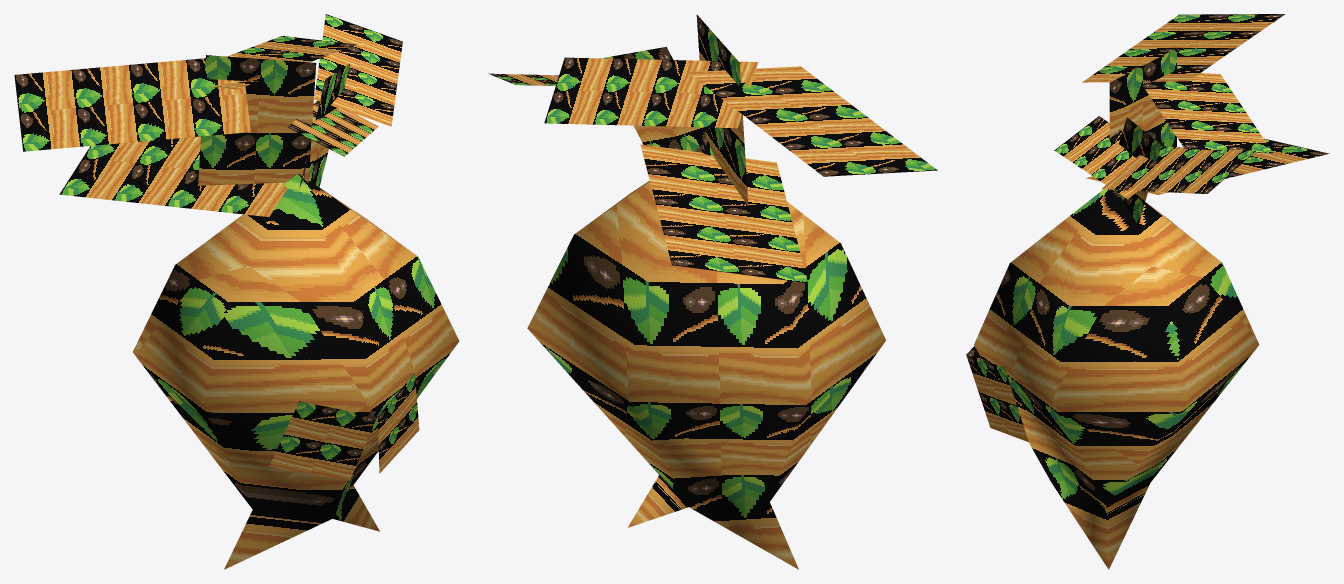
Rendered from 5055musi65_e.gltf.
The picture shows the model from 3 angles, left to right: view 1: azimuth 30°, elevation 25°; view 2: azimuth 150°, elevation 25°; view 3: azimuth 270°, elevation 25°; orthographic projection. The views are drawn at different scales.
Visible parts, largest first — view 1: 5055musi65_e; view 2: 5055musi65_e; view 3: 5055musi65_e.
Part boxes in pixels (x1,y1,x2,y2): 5055musi65_e: [14, 14, 459, 569]; 5055musi65_e: [488, 14, 937, 569]; 5055musi65_e: [966, 14, 1329, 569].
Size of the model in its own units: 0.2488 by 0.2915 by 0.2097.
1 material, 1 textured.
